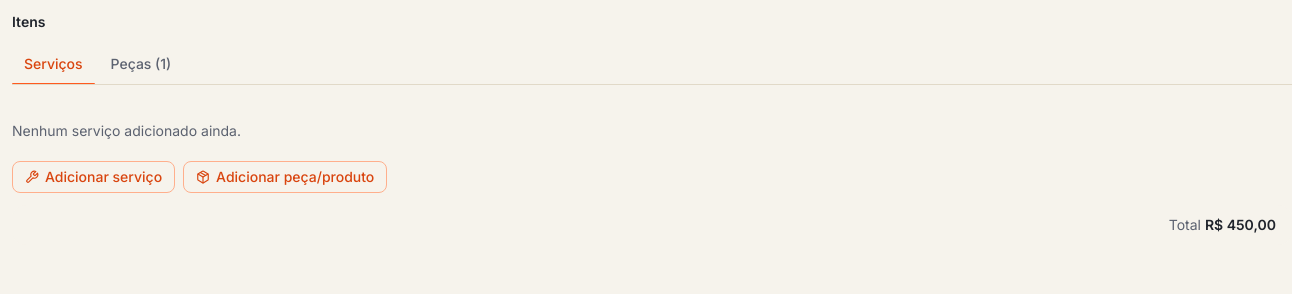
Test: ItemsEditor › clamps quantity to available stock only when limitarQuantidadeAoEstoque is set
The image size is (1292, 294).
Click the button "Peças (1)" at (141, 64), box 99,44 -> 183,84
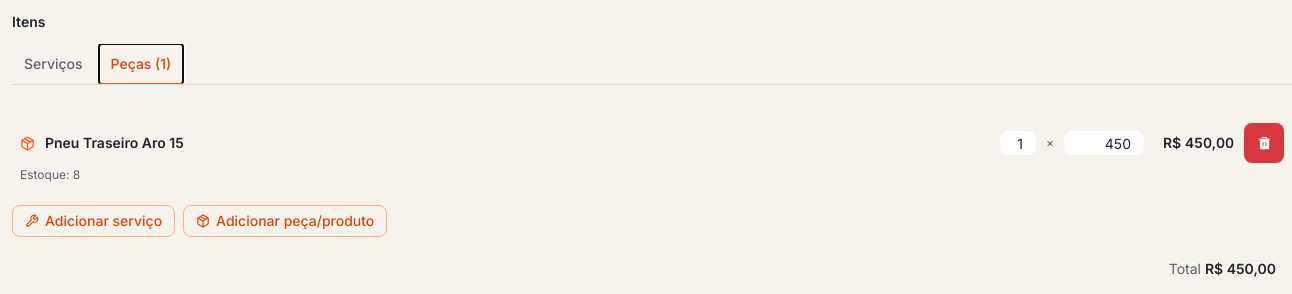
Replace the text in the number field named "Quantidade" with "20" at (1018, 143), box 1000,131 -> 1036,155
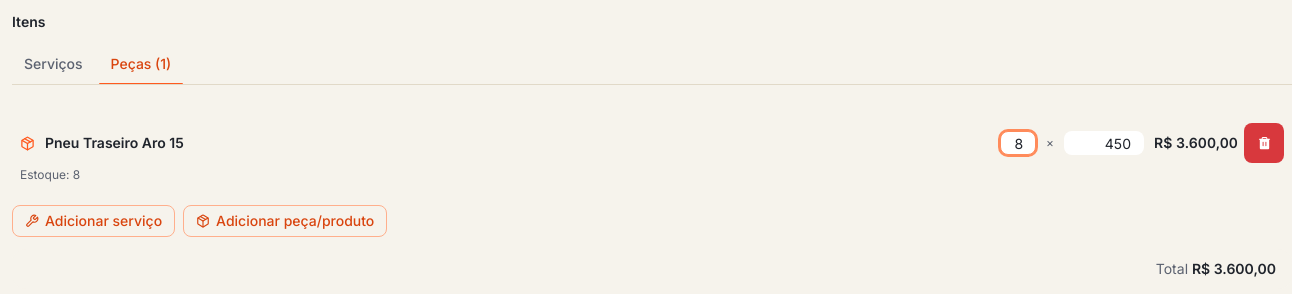
Now the number field named "Quantidade" holds "8", box 1000,131 -> 1036,155
